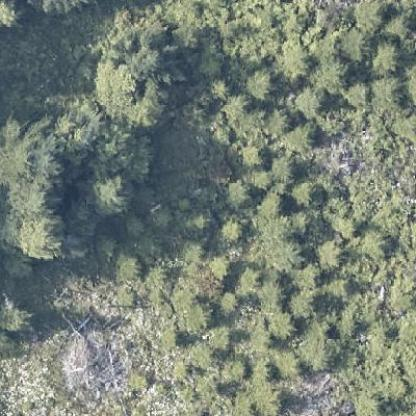tree-top: (1, 112, 73, 268), (80, 16, 183, 124), (86, 166, 141, 220), (368, 75, 406, 111), (239, 68, 273, 102), (216, 354, 247, 389), (264, 310, 299, 340), (222, 177, 256, 207), (289, 178, 324, 207), (358, 227, 391, 257), (370, 38, 400, 70), (216, 216, 250, 242)
